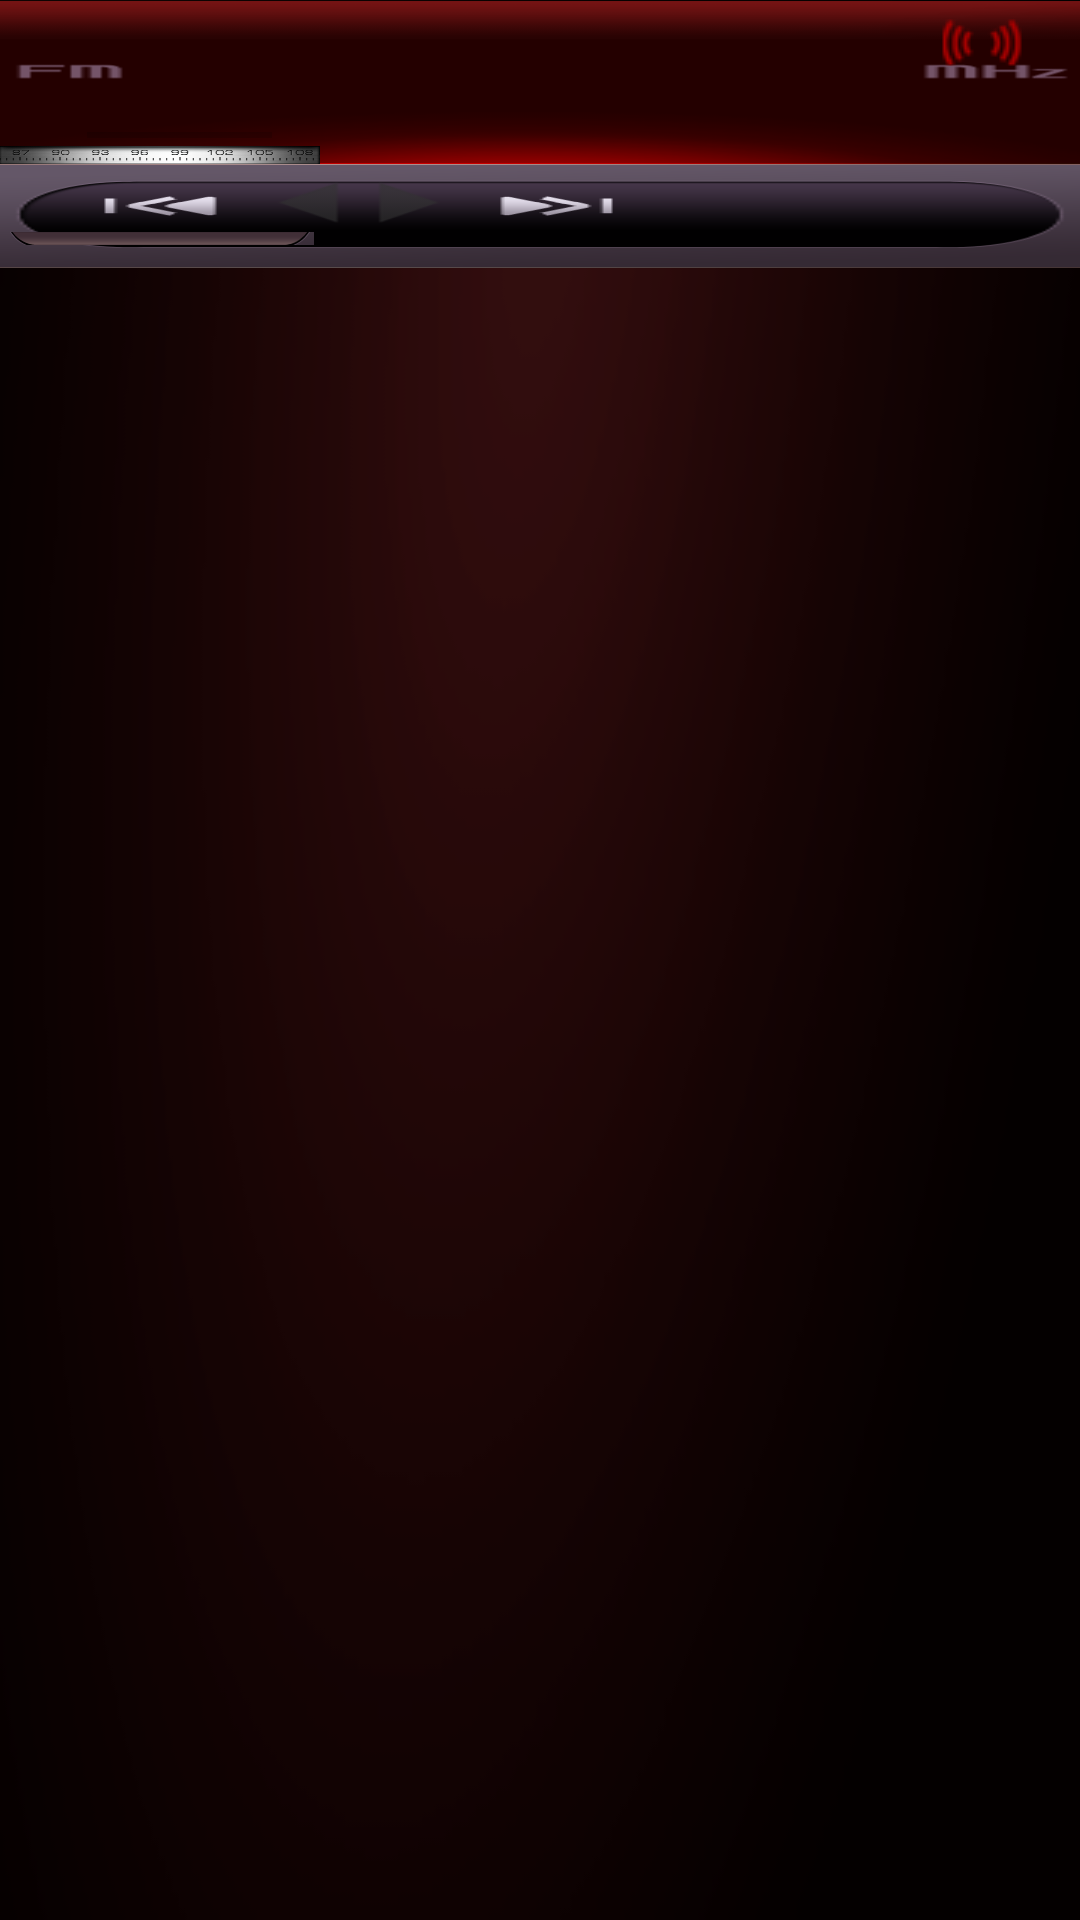

Screen size 1080 x 1920. Icon name, then its center in pixels as (x=x, y=y):
autosearch plus enable: (x=589, y=202)
autosearch reduce enable: (x=127, y=202)
manualadjust plus enable: (x=409, y=202)
manualadjust reduce enable: (x=308, y=202)
